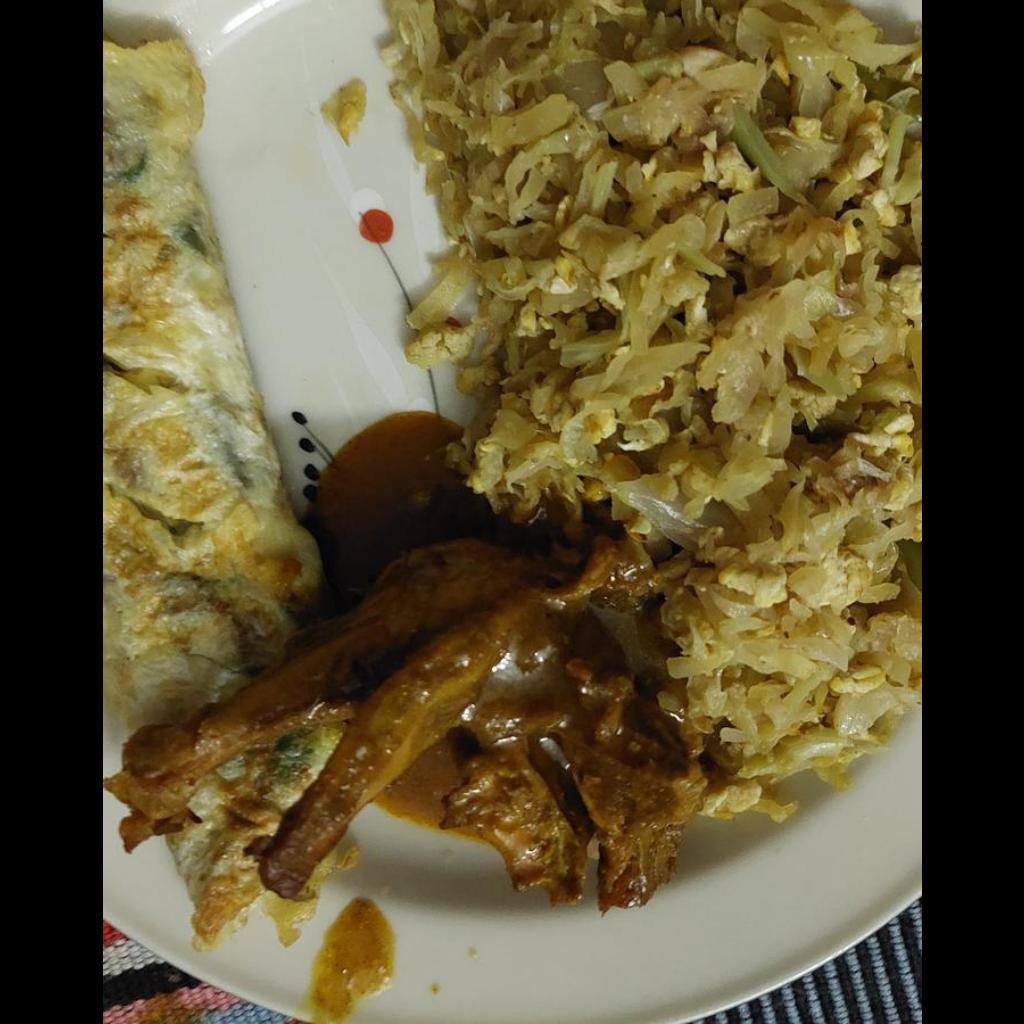chicken: (108, 529, 716, 914)
egg-poached: (102, 38, 311, 724)
vaji: (383, 1, 920, 818)
